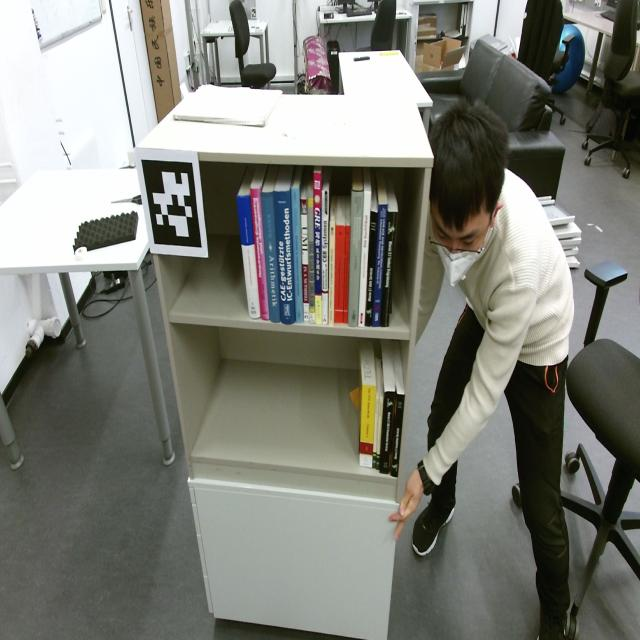Book Spine: (236, 196, 261, 319), (274, 190, 295, 324), (250, 187, 269, 320), (261, 190, 280, 322), (348, 190, 364, 327), (380, 212, 398, 327), (372, 205, 388, 327), (358, 190, 371, 327), (291, 187, 304, 323), (359, 385, 376, 468), (365, 211, 377, 326), (380, 391, 395, 474), (314, 172, 322, 324), (391, 394, 405, 478), (300, 199, 309, 321), (334, 225, 345, 323), (307, 191, 315, 324), (322, 190, 329, 324), (343, 226, 351, 323), (328, 221, 335, 324), (372, 396, 379, 469), (376, 399, 383, 470)
